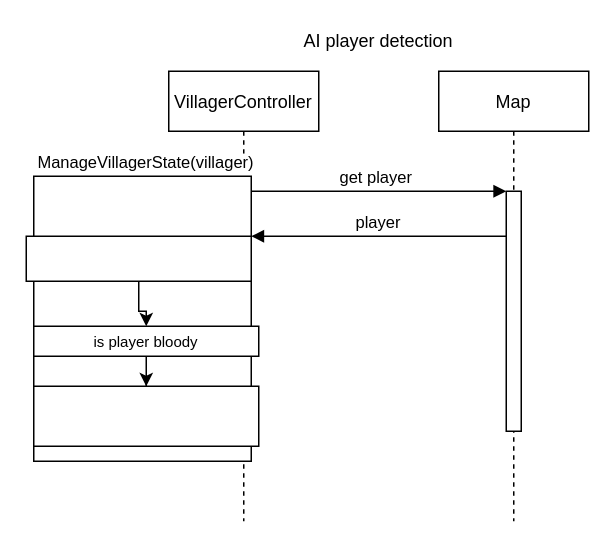
The diagram is 615 pixels wide and 548 high, and some of its shapes have lost their labels. The shapes that lost their labels are listed below. From the top down, each one's box as (x1, y1, x2, y2) in pixels, then its label:
(25, 235, 251, 281): check player is in villager sight
(32, 385, 259, 446): change villager state
